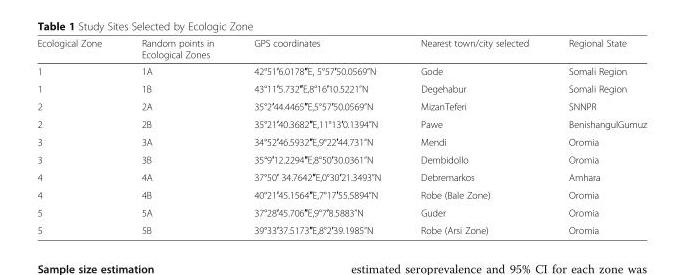table: (36, 37, 646, 235)
table column: (233, 37, 400, 235), (400, 37, 548, 235), (121, 37, 233, 235), (548, 37, 646, 235), (36, 37, 121, 235)
table column header: (36, 37, 646, 62)
table row: (36, 37, 646, 62), (36, 79, 646, 97), (36, 97, 646, 115), (36, 132, 646, 150), (36, 150, 646, 168), (36, 185, 646, 203), (36, 203, 646, 221), (36, 62, 646, 79), (36, 115, 646, 132), (36, 168, 646, 185), (36, 221, 646, 235)
